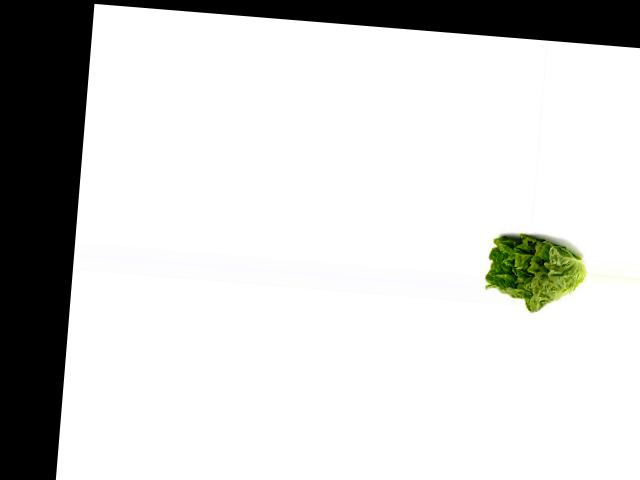lettuce: (483, 226, 588, 314)
